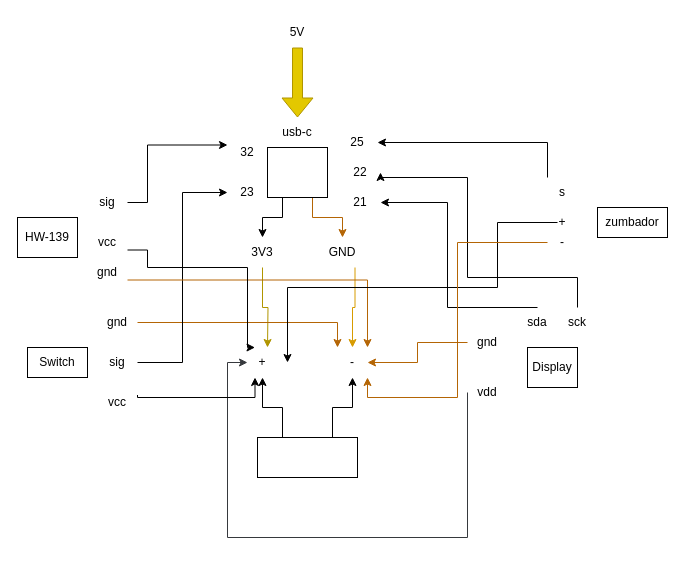
This 685x563 diagram has some shape labels left out. The box of each missing label's shape, as (x1, y1, x2, y2) in pixels:
ESP32: (266, 146, 328, 198)
Protoboard: (256, 436, 358, 478)
